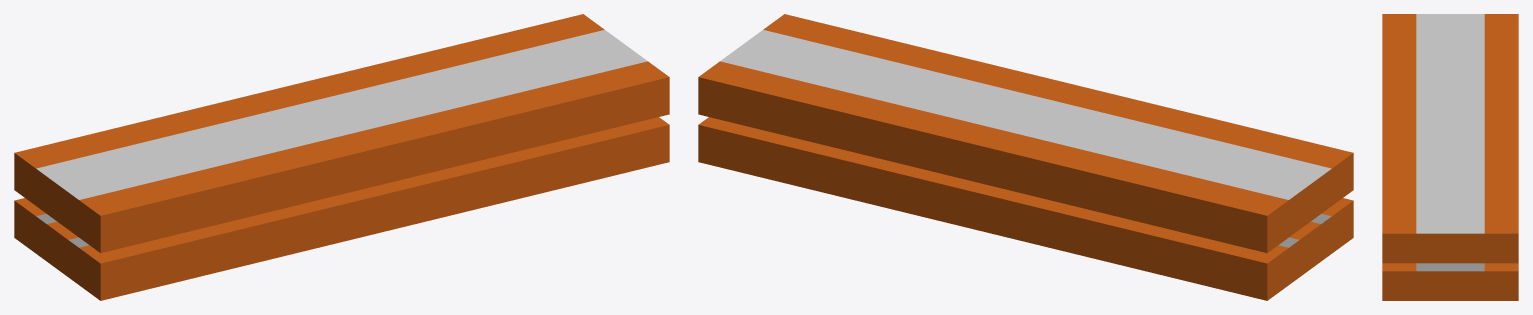
Rendered from Aparatito que se abre 1.fbx.
3 renders of one model, left to right at view 1: azimuth 30°, elevation 25°; view 2: azimuth 150°, elevation 25°; view 3: azimuth 270°, elevation 25°, orthographic. The views are drawn at different scales.
Parts seen in each view (by area): view 1: Cube.001, Cube; view 2: Cube.001, Cube; view 3: Cube.001, Cube.
Boxes of the visible parts, <box> form: Cube.001: <box>14,14,669,253</box>; Cube: <box>14,117,669,300</box>; Cube.001: <box>698,14,1353,253</box>; Cube: <box>698,117,1353,300</box>; Cube.001: <box>1382,14,1518,263</box>; Cube: <box>1382,263,1518,300</box>.
Size of the model in its own units: 200 by 28.58 by 52.48.
